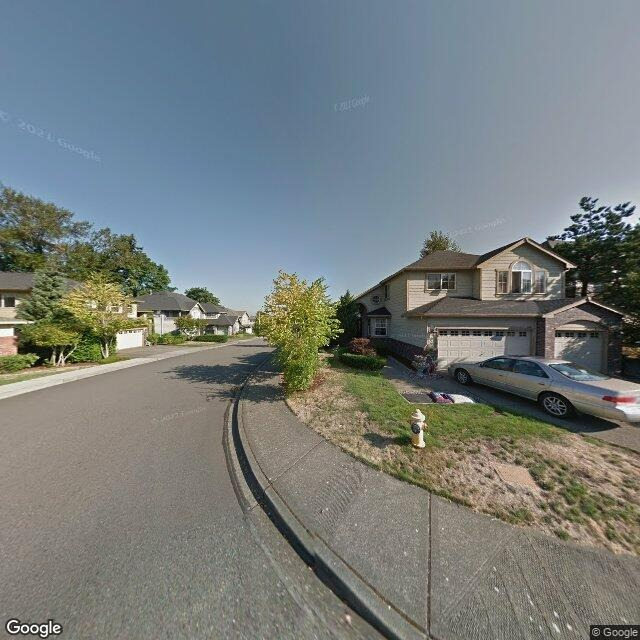hydrant: (407, 405, 430, 450)
